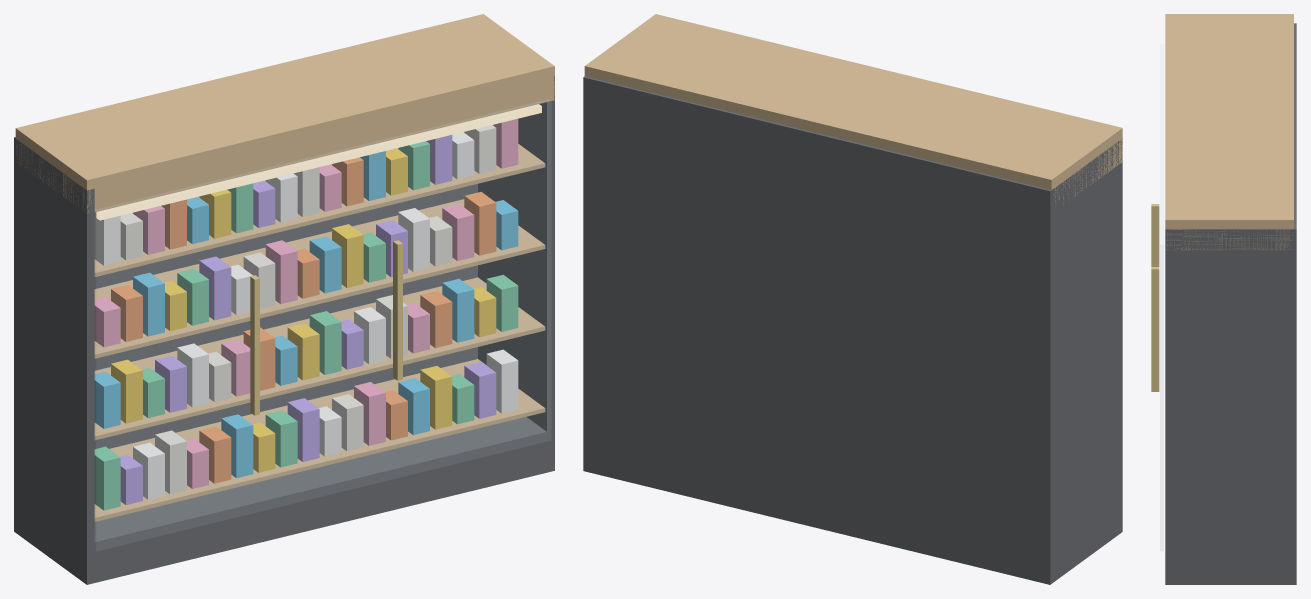
File: fridge_bay_36.glb
The picture shows the model from 3 angles, left to right: view 1: azimuth 30°, elevation 25°; view 2: azimuth 150°, elevation 25°; view 3: azimuth 270°, elevation 25°; orthographic projection. The views are drawn at different scales.
Visible parts, largest first — view 1: glass, c2b2e33_0.5_0, oak, c2d9cdb_0.5_0, cffffff_0.5_0, c3bb273_0.5_0, cec6fa1_0.5_0, cf2b01e_0.5_0, c8e6cef_0.5_0, cf2662c_0.5_0, ce8e0d2_0.5_0, glowffd9a0 (+1 smaller); view 2: c2b2e33_0.5_0, oak; view 3: c2b2e33_0.5_0, oak, glass, cc9a24a_0.25_0.8.
Boxes of the visible parts, x1=… form: glass: x1=95, y1=99, x2=550, y2=550; c2b2e33_0.5_0: x1=14, y1=76, x2=554, y2=584; oak: x1=15, y1=14, x2=554, y2=521; c2d9cdb_0.5_0: x1=94, y1=151, x2=518, y2=478; cffffff_0.5_0: x1=94, y1=132, x2=518, y2=499; c3bb273_0.5_0: x1=94, y1=141, x2=518, y2=510; cec6fa1_0.5_0: x1=94, y1=118, x2=518, y2=488; cf2b01e_0.5_0: x1=111, y1=148, x2=496, y2=472; c8e6cef_0.5_0: x1=120, y1=135, x2=496, y2=504; cf2662c_0.5_0: x1=111, y1=157, x2=496, y2=483; ce8e0d2_0.5_0: x1=120, y1=125, x2=496, y2=494; glowffd9a0: x1=96, y1=104, x2=541, y2=220; c2b2e33_0.5_0: x1=583, y1=76, x2=1122, y2=584; oak: x1=584, y1=14, x2=1122, y2=207; c2b2e33_0.5_0: x1=1165, y1=23, x2=1296, y2=584; oak: x1=1165, y1=14, x2=1293, y2=250; glass: x1=1160, y1=45, x2=1163, y2=550; cc9a24a_0.25_0.8: x1=1151, y1=204, x2=1159, y2=391.
Bounding box in the file's own units: 3.6 × 2.97 × 1.08.
